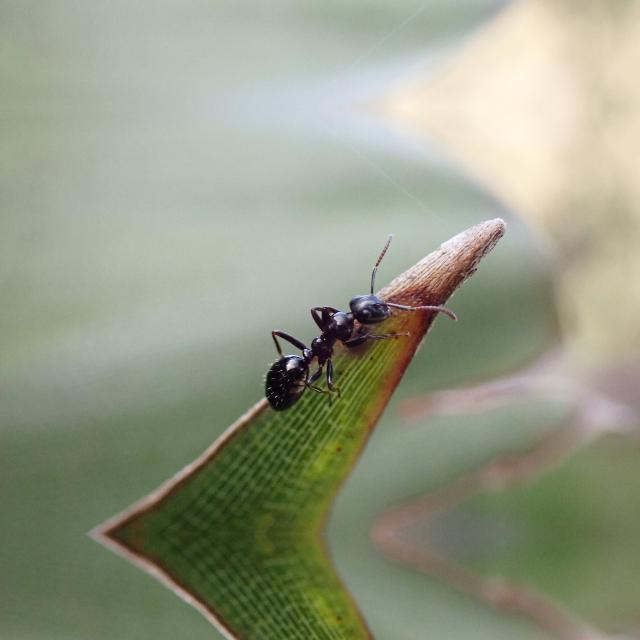Colobopsis: (232, 262, 434, 426)
